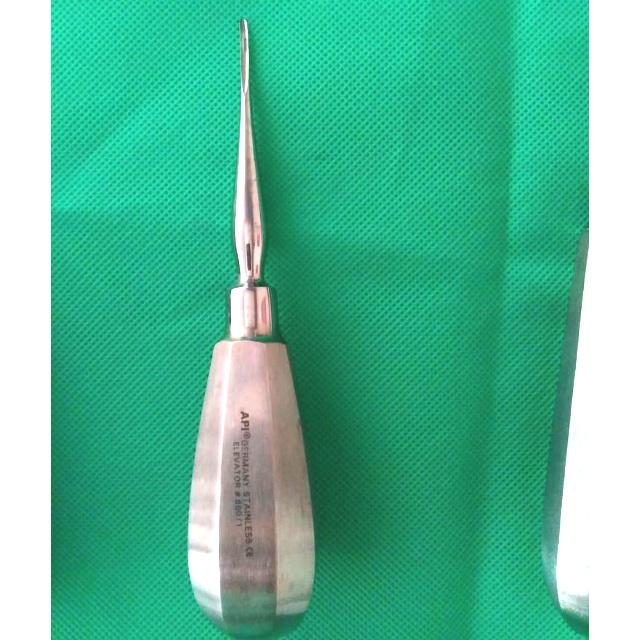botador: (187, 18, 316, 636)
